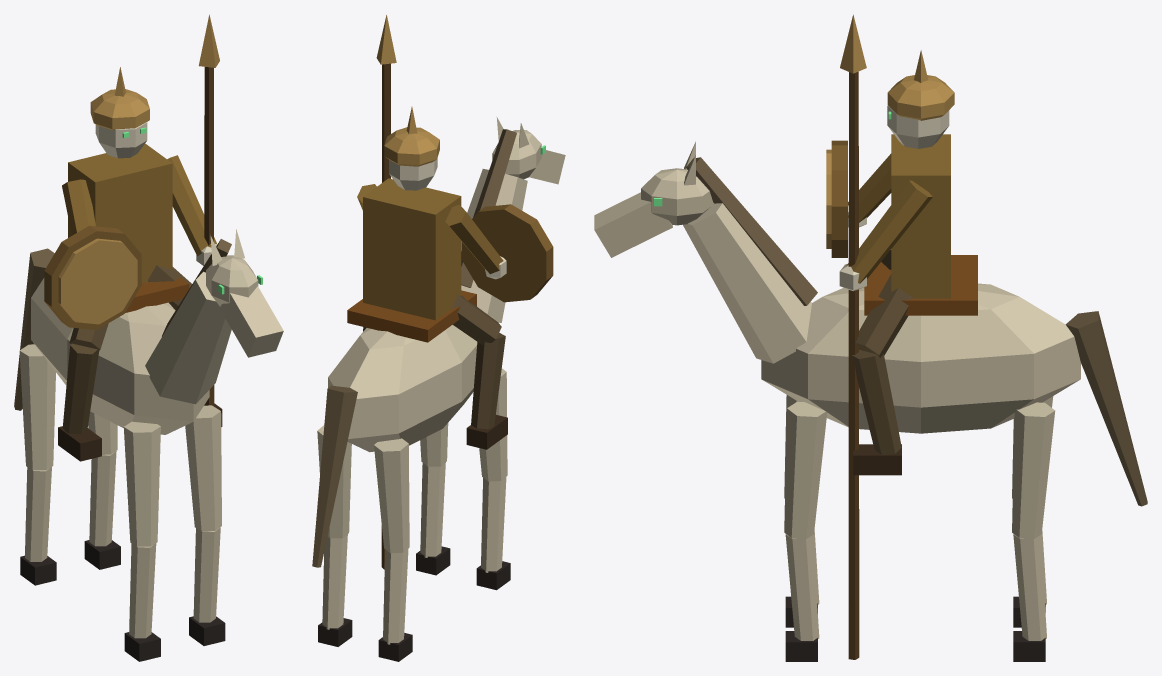
The model's file is reiterfuerst.glb.
The picture shows the model from 3 angles, left to right: view 1: azimuth 30°, elevation 25°; view 2: azimuth 150°, elevation 25°; view 3: azimuth 270°, elevation 25°; orthographic projection. The views are drawn at different scales.
Size of the model in its own units: 0.8412 by 2.67 by 2.04.
1 material, 1 textured.
